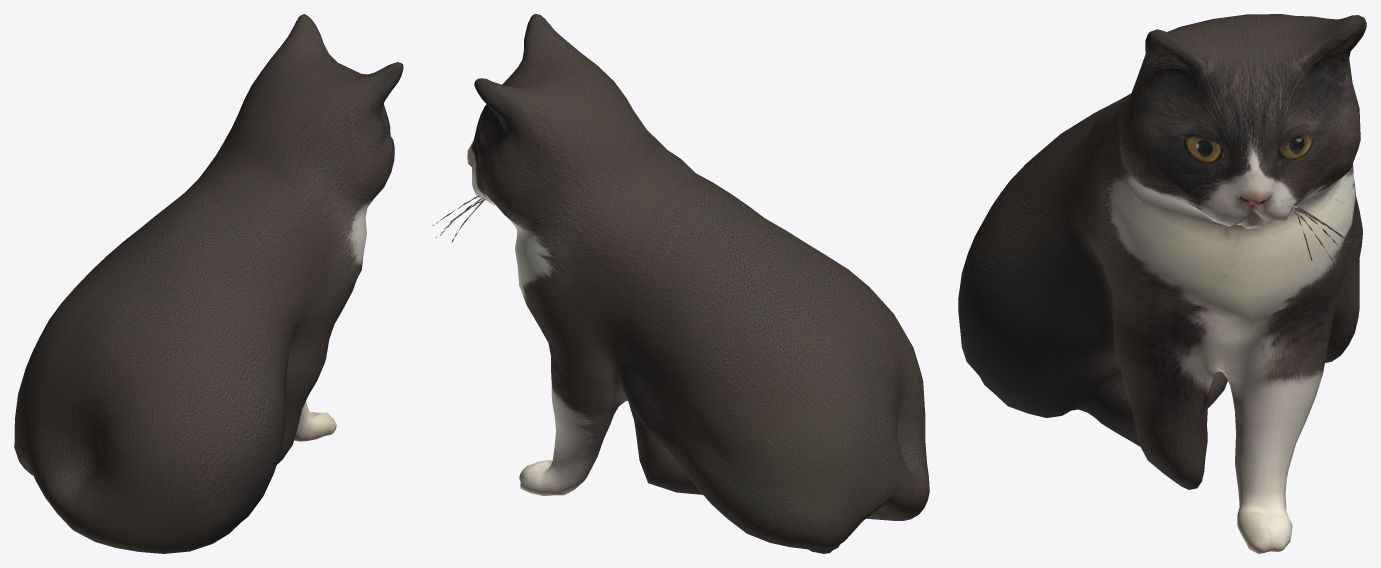
File: geigei01-dcef6fdb.glb
3 renders of one model, left to right at view 1: azimuth 30°, elevation 25°; view 2: azimuth 150°, elevation 25°; view 3: azimuth 270°, elevation 25°, orthographic. The views are drawn at different scales.
Visible parts, largest first — view 1: tripo_node_be5cdd51-5958-4465-a38b-c543c2b02cad; view 2: tripo_node_be5cdd51-5958-4465-a38b-c543c2b02cad; view 3: tripo_node_be5cdd51-5958-4465-a38b-c543c2b02cad.
Part boxes in pixels (left/top/right/bottom): tripo_node_be5cdd51-5958-4465-a38b-c543c2b02cad: left=14, top=14, right=403, bottom=553; tripo_node_be5cdd51-5958-4465-a38b-c543c2b02cad: left=432, top=14, right=929, bottom=553; tripo_node_be5cdd51-5958-4465-a38b-c543c2b02cad: left=958, top=14, right=1366, bottom=553.
Size of the model in its own units: 0.998 by 0.998 by 0.6777.
Materials: 1 (1 with a texture image).
